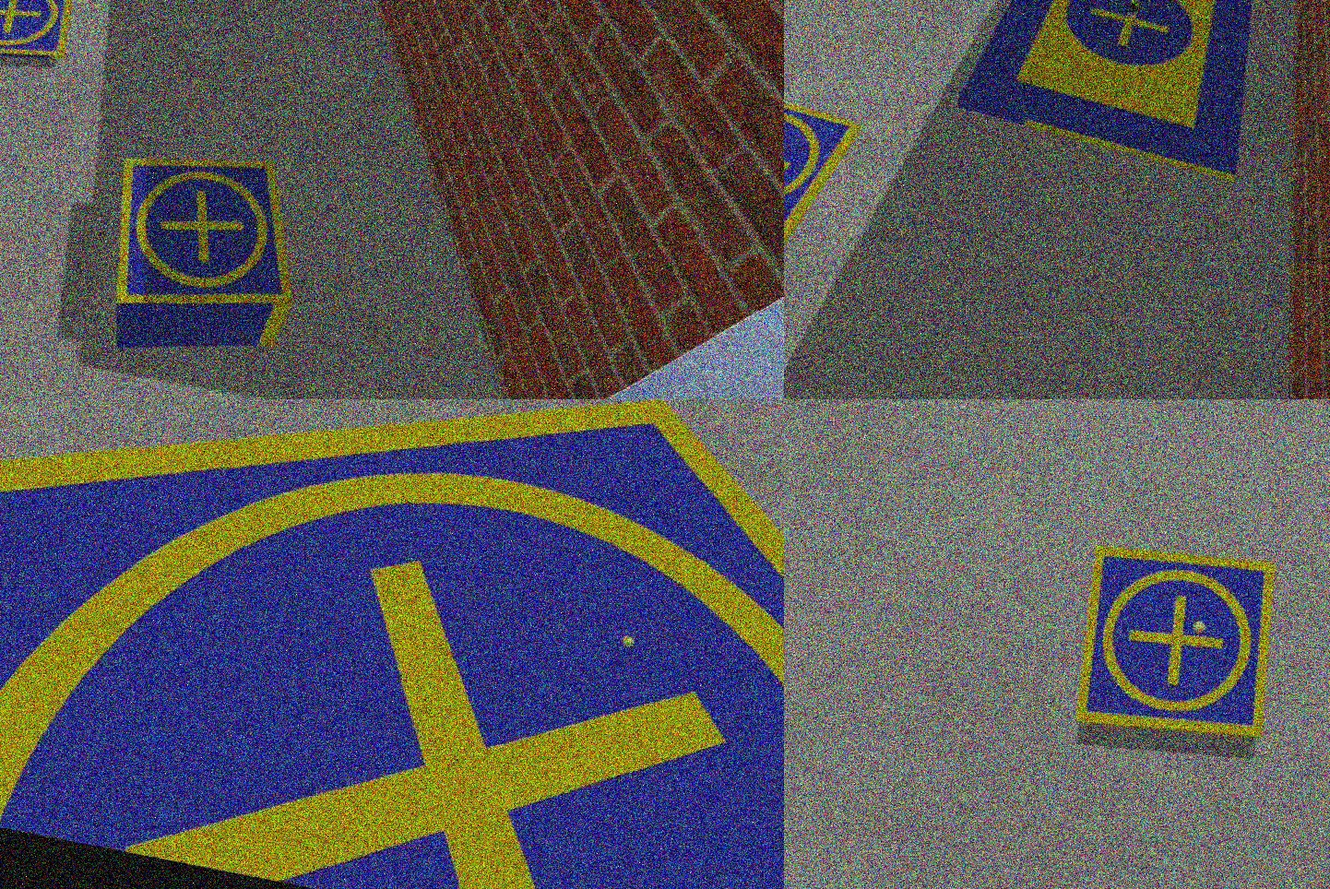large_base: (956, 1, 1284, 184)
small_base: (1, 400, 784, 889), (1062, 531, 1297, 761), (97, 135, 321, 339), (784, 74, 860, 260), (1, 1, 79, 77)
